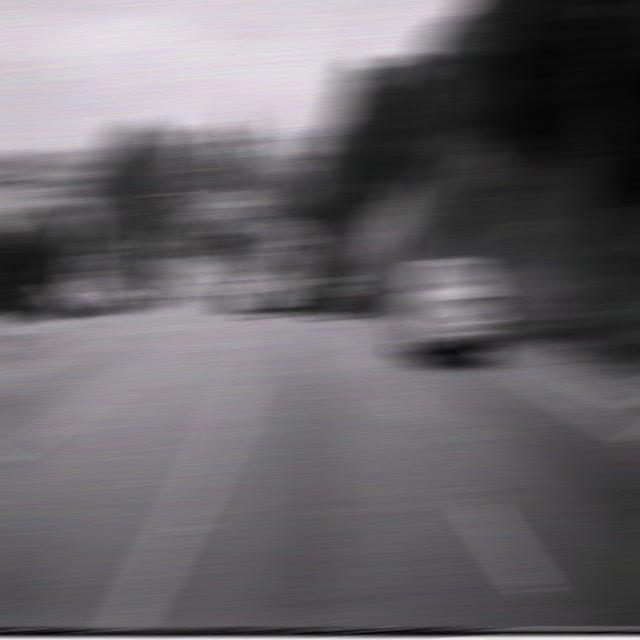pedestrianCrossing: (348, 227, 380, 257)
